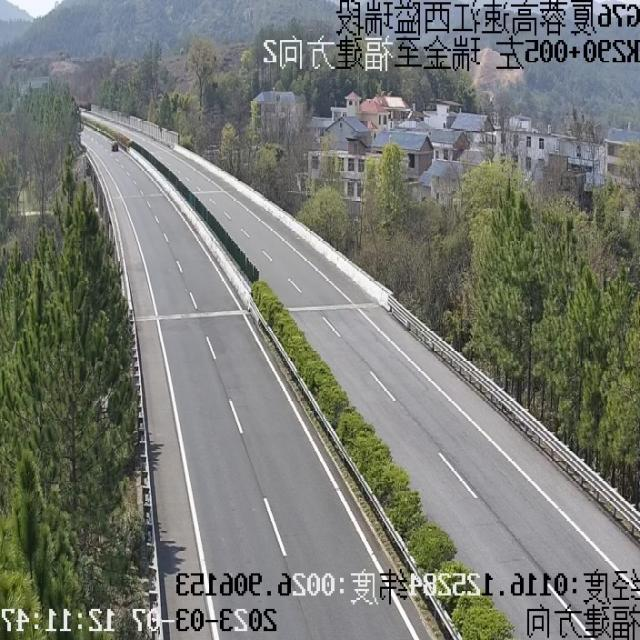point: (71, 94, 121, 150)
